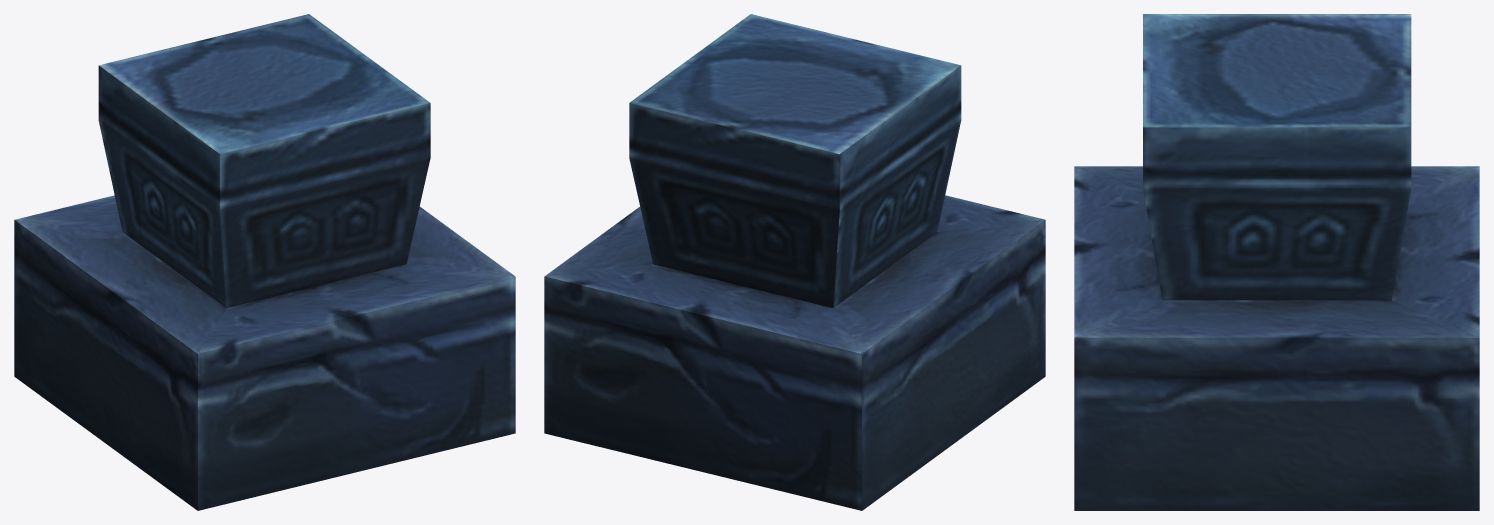
Rendered from kaitoudonghuadizuo01.FBX.
3 renders of one model, left to right at view 1: azimuth 30°, elevation 25°; view 2: azimuth 150°, elevation 25°; view 3: azimuth 270°, elevation 25°, orthographic. The views are drawn at different scales.
Visible parts, largest first — view 1: dizuo01; view 2: dizuo01; view 3: dizuo01.
Part boxes in pixels (x1,y1,x2,y2): dizuo01: [14, 14, 515, 510]; dizuo01: [544, 14, 1045, 510]; dizuo01: [1074, 14, 1479, 510].
Size of the model in its own units: 205 by 198 by 205.
